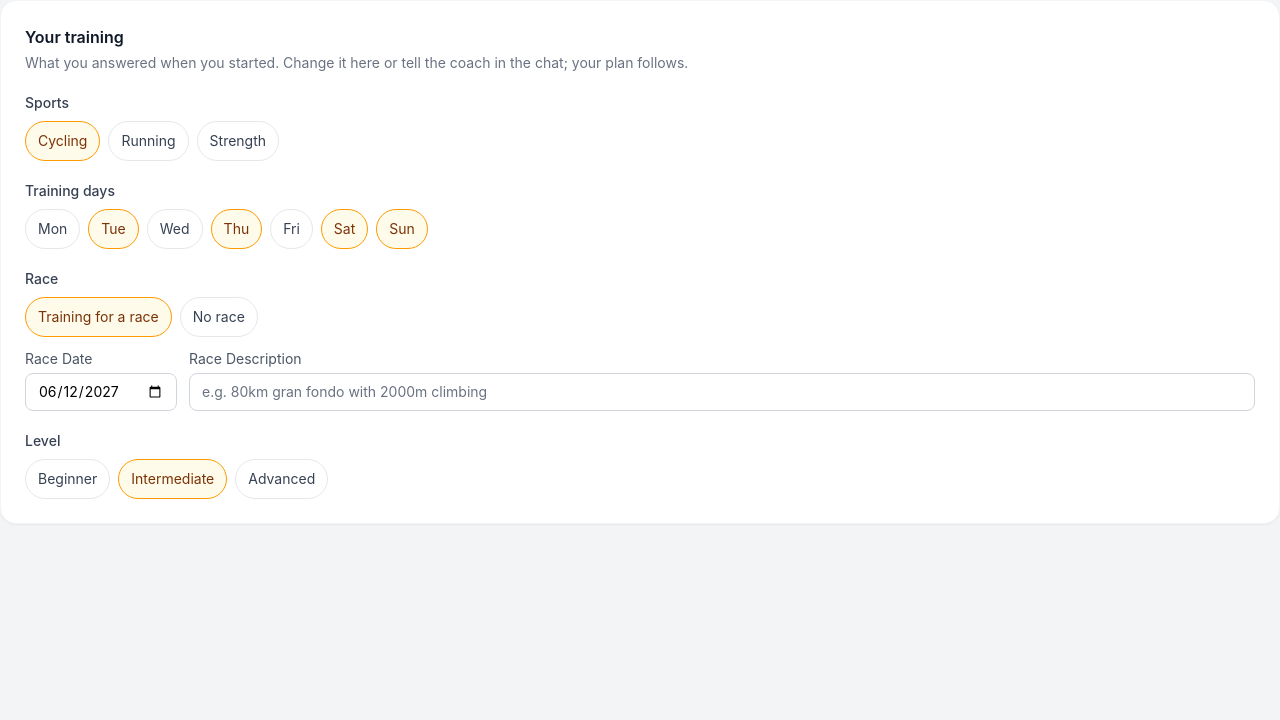
Scenario: TrainingAnswersSettings (ai-trainer-ops#202) › asks for a date when the race date is emptied
Clear the date field labelled "Race Date". click: (101, 392)
box: [25,373,177,411]
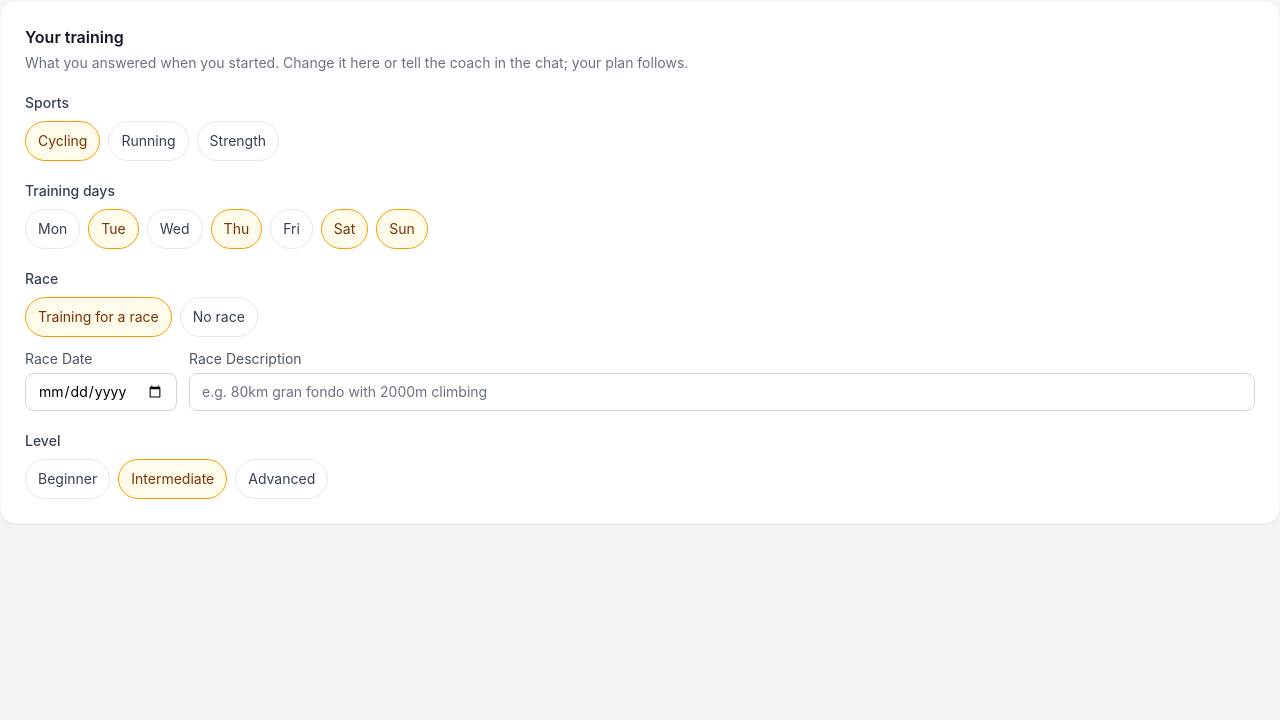
Type "x" into the field labelled "Race Description". click: (722, 392)
box: [189,373,1255,411]
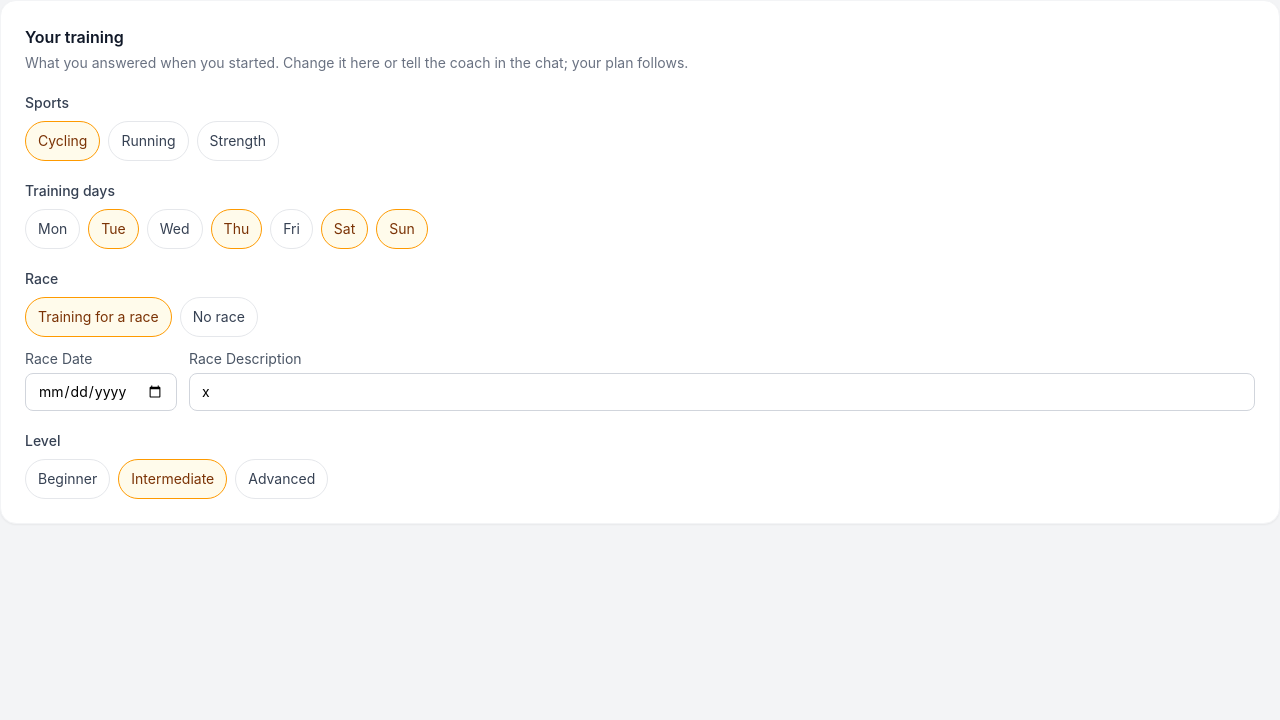
Leave the field labelled "Race Description", box [189,373,1255,411]
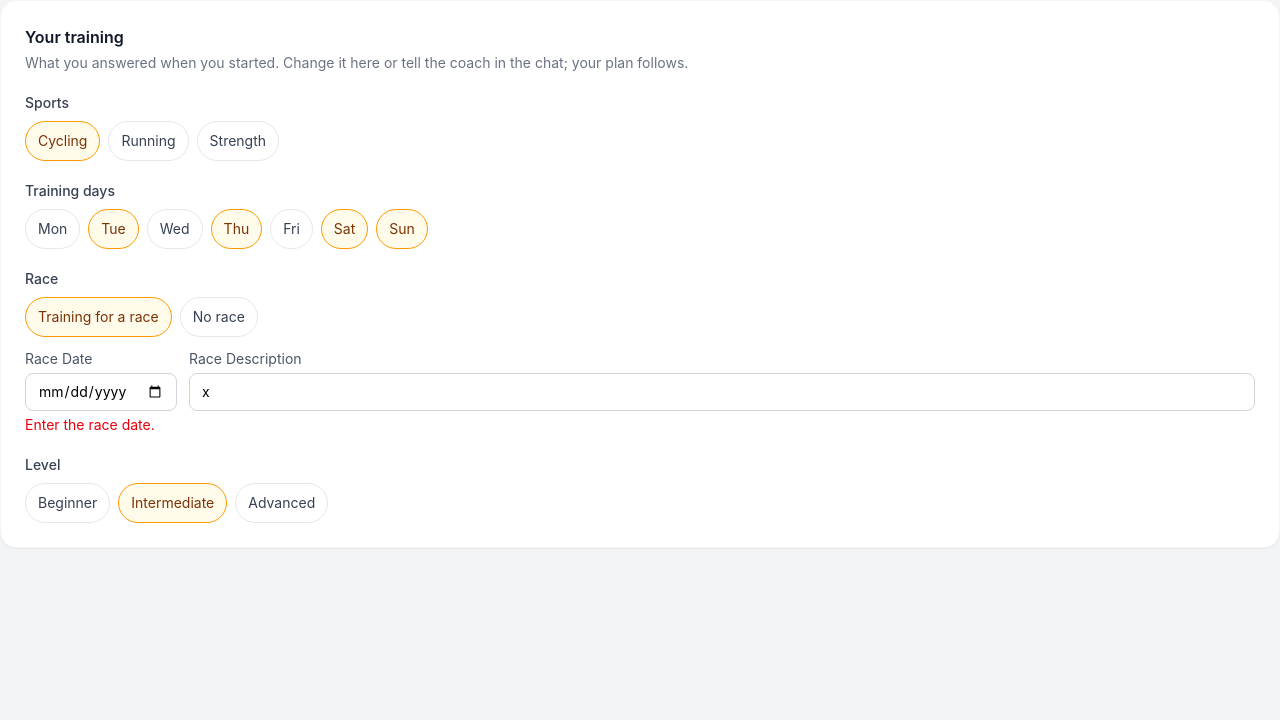
Expected: the message reads "Enter the race date.", [25,416,155,433]
